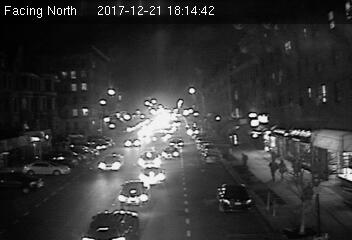car: (217, 182, 252, 212), (120, 179, 151, 206), (139, 166, 167, 185), (97, 152, 124, 171), (137, 152, 161, 167), (122, 136, 143, 149), (161, 146, 179, 158)
pedestrian: (268, 158, 279, 183)
